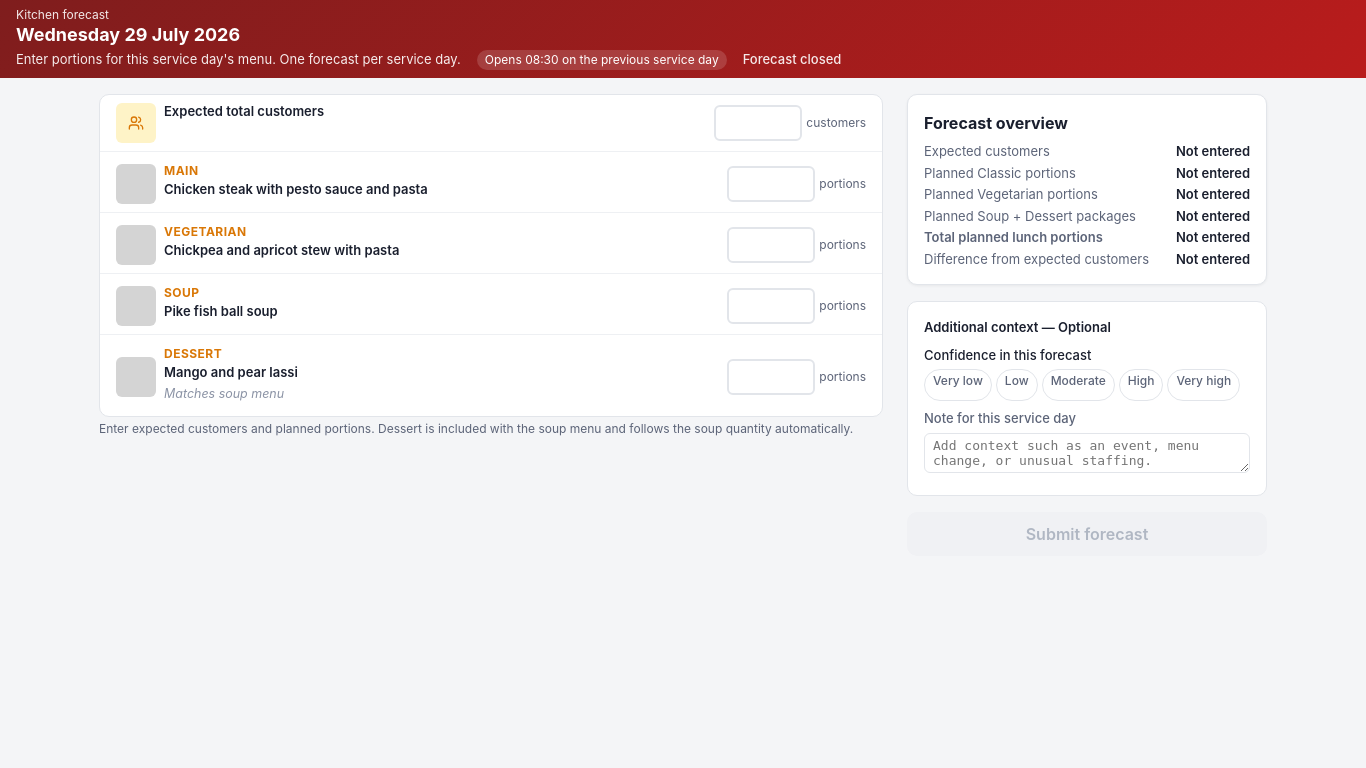
Test: chef soup and dessert sync › sets dessert to 50 when soup is 50
Type "50" into the field in the row of "Pike fish ball soup" at (771, 306), box [727,288,815,324]
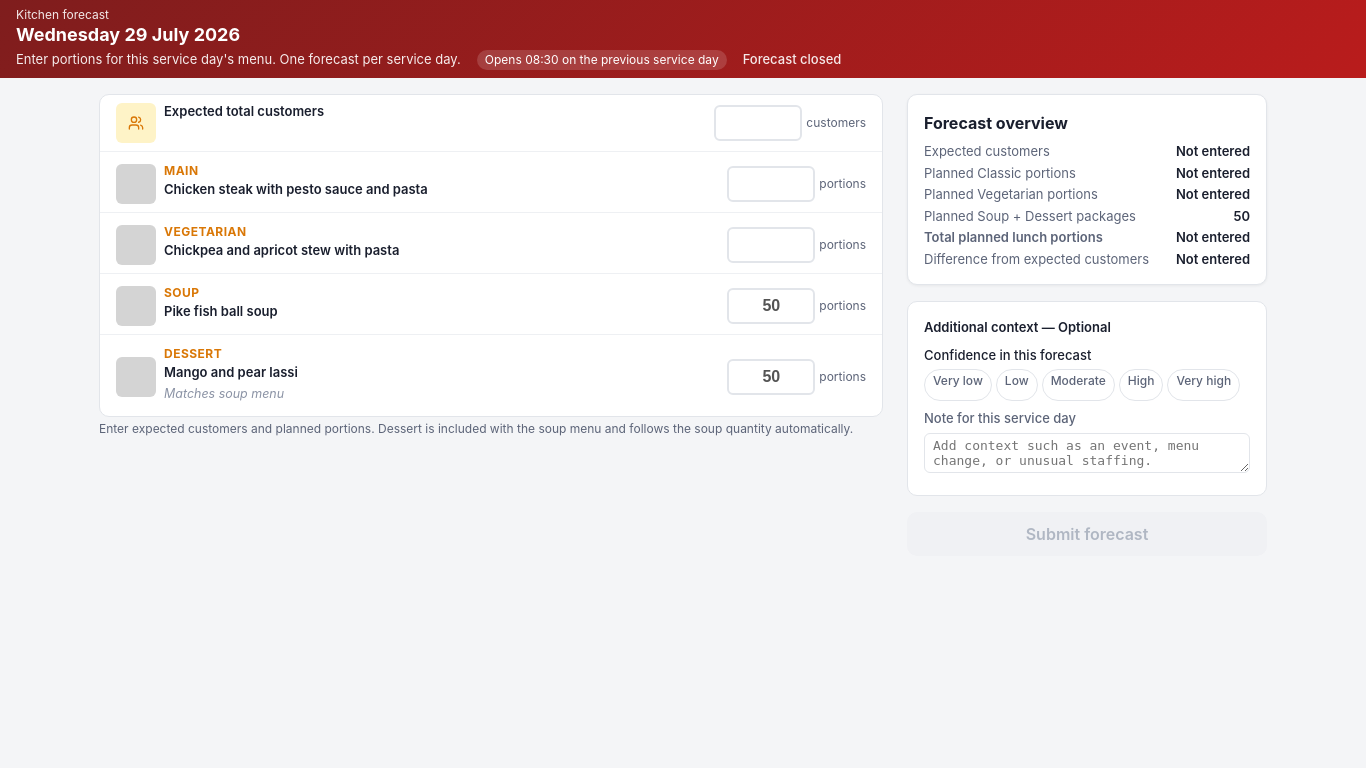
Expected: the field in the row of "Mango and pear lassi" holds "50", [727,359,815,395]
